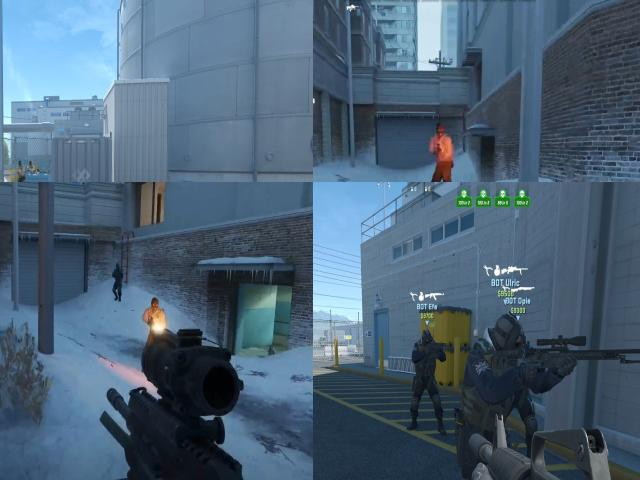CT: (467, 313, 518, 480), (509, 318, 536, 452), (415, 330, 439, 430), (112, 259, 127, 290)
CT-Head: (490, 315, 516, 354), (518, 326, 529, 345), (421, 331, 432, 345), (112, 264, 120, 275)
T: (425, 121, 453, 172), (145, 294, 166, 337), (16, 161, 24, 182), (27, 161, 35, 174)
T-Head: (432, 122, 448, 145), (148, 295, 162, 313), (18, 161, 22, 166), (29, 161, 33, 166)
